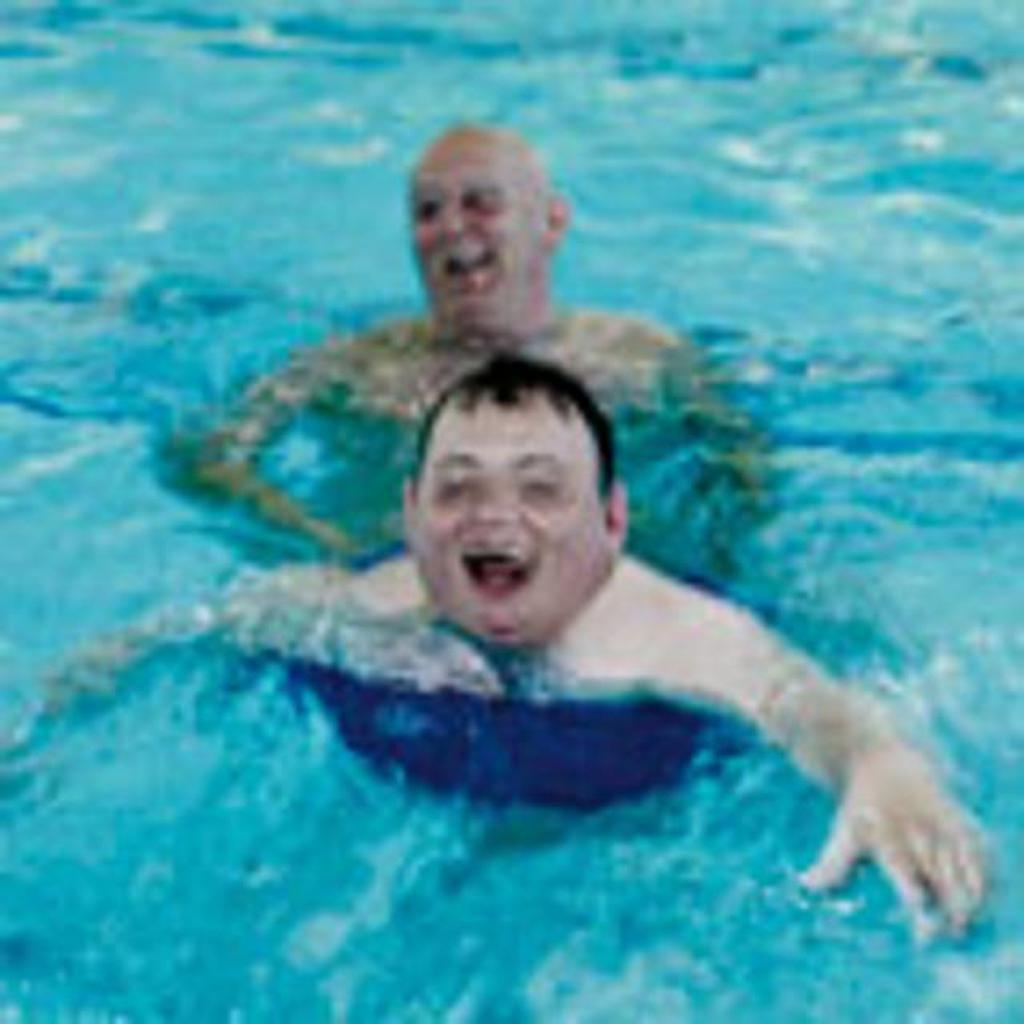face: (422, 416, 602, 640), (416, 156, 530, 312)
